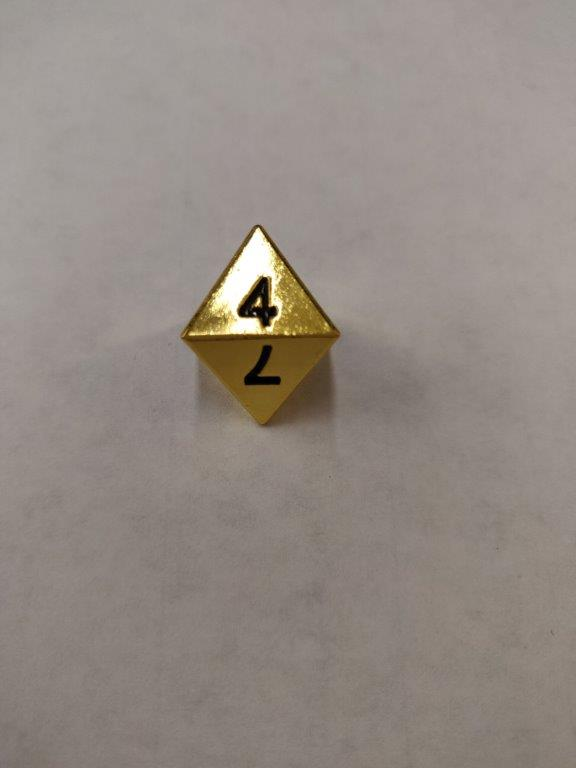d8-4: (180, 226, 342, 429)
